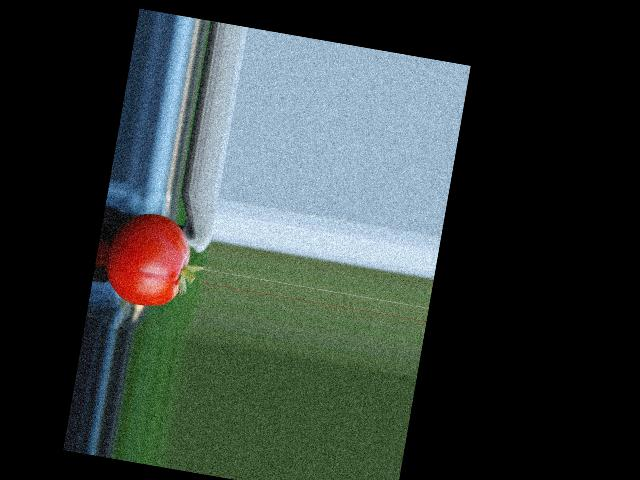tomato: (100, 207, 195, 312)
